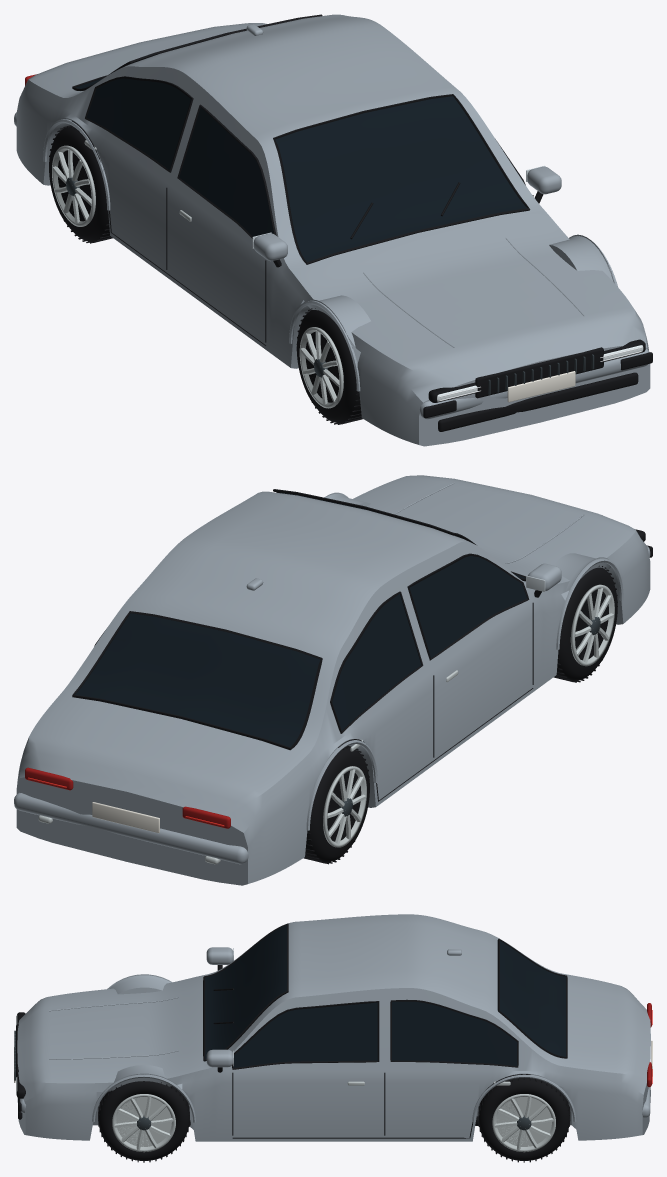
The model's file is coche_coupe_base.glb.
3 renders of one model, top to bottom at view 1: azimuth 30°, elevation 25°; view 2: azimuth 150°, elevation 25°; view 3: azimuth 270°, elevation 25°, orthographic. The views are drawn at different scales.
Parts seen in each view (by area): view 1: coche_coupe_base; view 2: coche_coupe_base; view 3: coche_coupe_base.
Boxes of the visible parts, bbox=[...] form: coche_coupe_base: bbox=[14, 14, 652, 446]; coche_coupe_base: bbox=[14, 475, 652, 885]; coche_coupe_base: bbox=[14, 914, 652, 1162].
Bounding box in the file's own units: 1.84 × 1.3 × 4.49.
